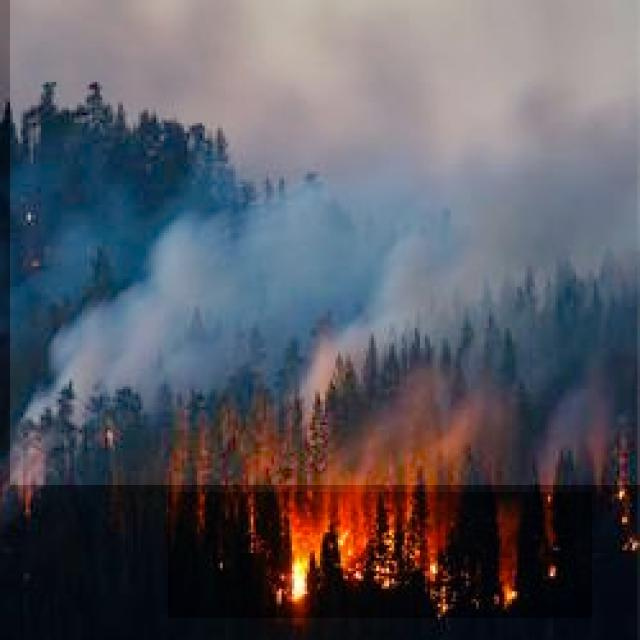Fire: (168, 492, 592, 618)
Smoke: (10, 0, 640, 485)
